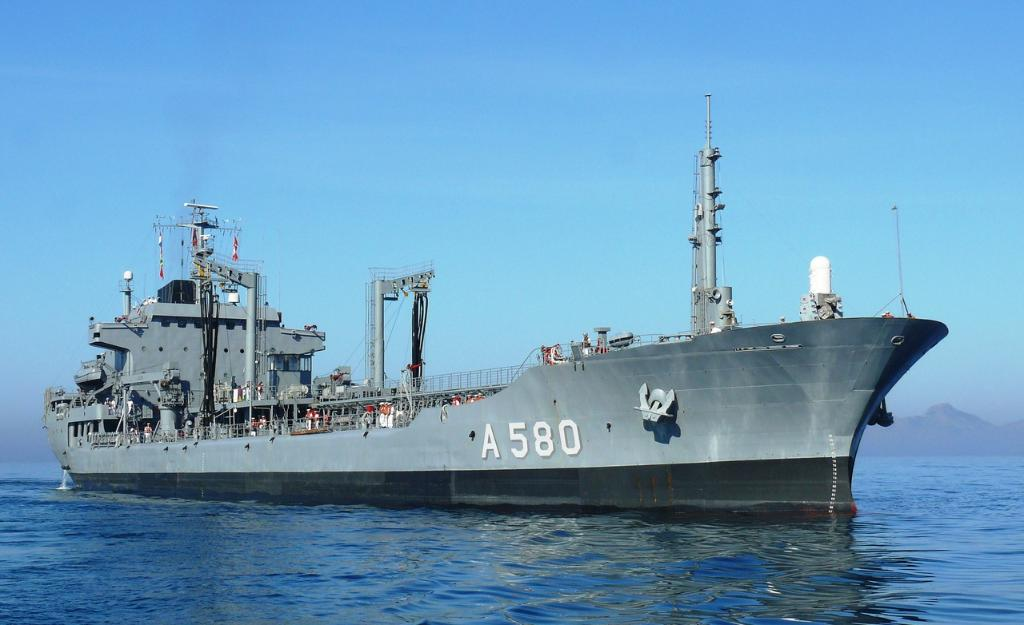Warship: (38, 94, 956, 524)
